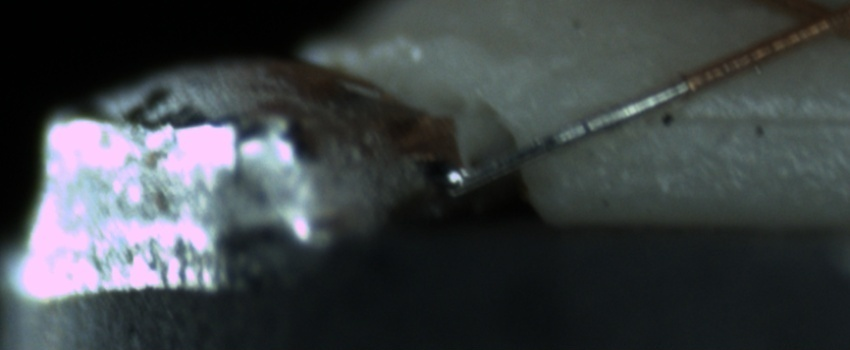CL: (773, 0, 848, 45)
DL: (666, 84, 850, 148)
TS: (446, 75, 684, 198)
